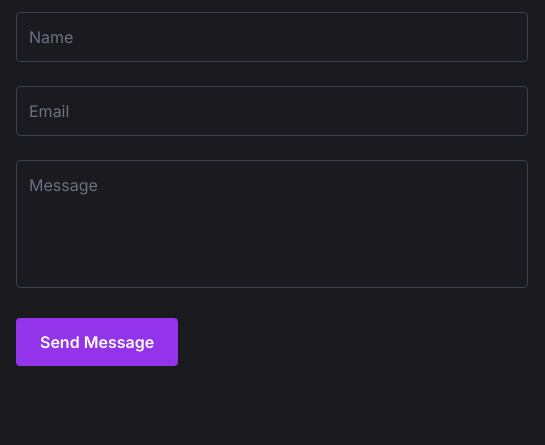
Test: ContactForm Component › displays error on API failure
Fill and submit
Type "John" into the field with placeholder "Name". click: (272, 37)
box: [16,12,528,62]
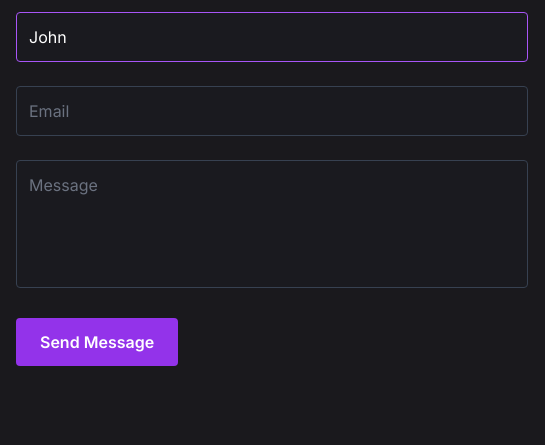
Type "john@example.com" into the field with placeholder "Email". click: (272, 111)
box: [16,86,528,136]
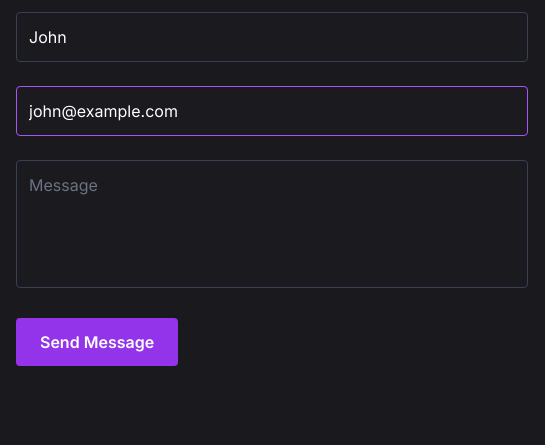
Type "Test" into the text box with placeholder "Message". click: (272, 224)
box: [16,160,528,288]
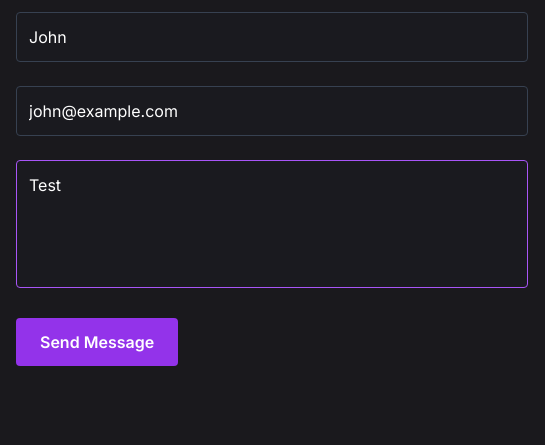
Click the button "Send Message". click: (97, 342)
box: [16,318,178,366]
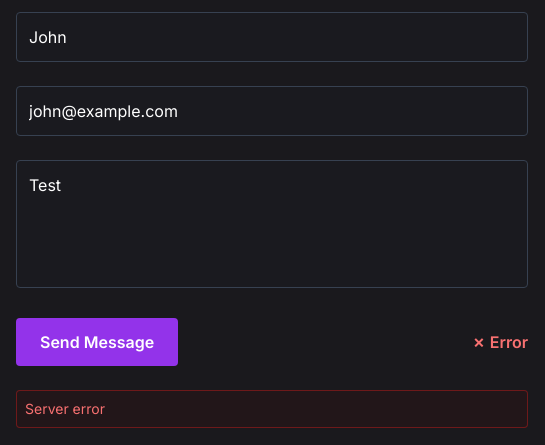
Result: the text "✗ Error" is shown at [472,330,528,354]
Result: the text "Server error" is shown at [16,390,528,428]
